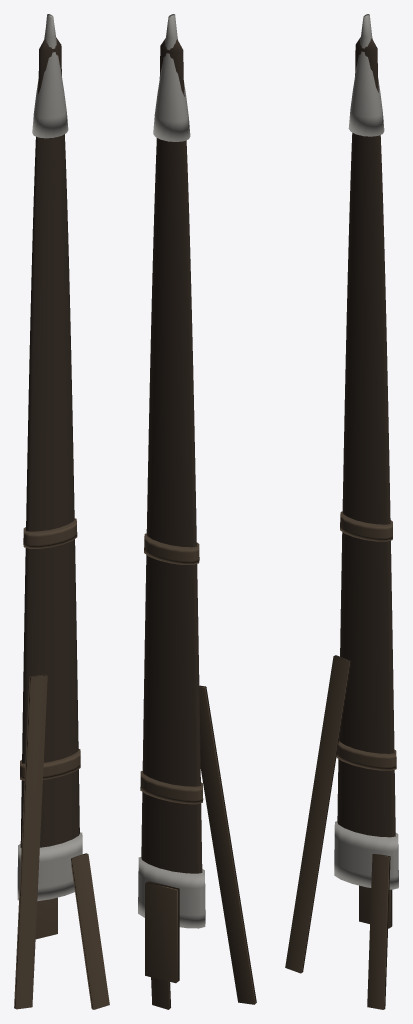
Rendered from scabbard.glb.
The picture shows the model from 3 angles, left to right: view 1: azimuth 30°, elevation 25°; view 2: azimuth 150°, elevation 25°; view 3: azimuth 330°, elevation 25°; orthographic projection. The views are drawn at different scales.
Visible parts, largest first — view 1: Scabbard; view 2: Scabbard; view 3: Scabbard.
Boxes of the visible parts, x1,y1,x2,y2 form: Scabbard: (14,14,109,1009); Scabbard: (138,14,256,1009); Scabbard: (285,14,398,1009).
Bounding box in the file's own units: 0.0959 × 0.9358 × 0.0611.
